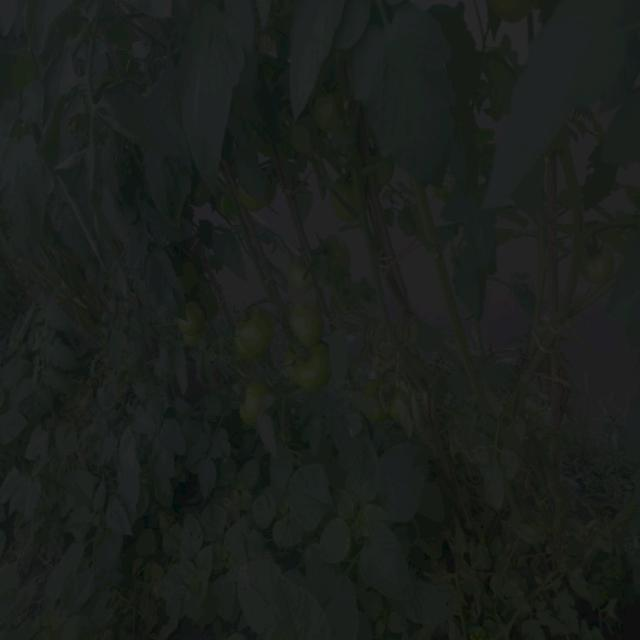tomato: (291, 349, 337, 394), (580, 237, 620, 286), (230, 312, 267, 362), (328, 178, 365, 225), (233, 387, 270, 432), (488, 1, 539, 28), (291, 304, 322, 343), (284, 124, 317, 159), (178, 303, 207, 340), (367, 152, 394, 190), (321, 236, 350, 271), (314, 84, 338, 119), (283, 259, 312, 286), (240, 194, 260, 213)
